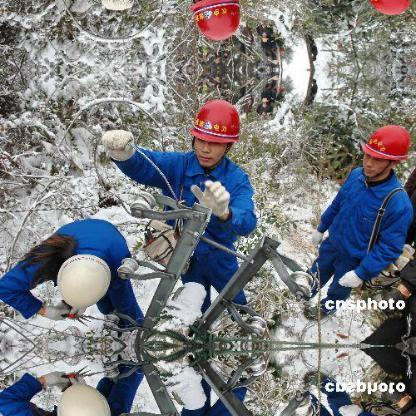helmet: (52, 253, 111, 316), (187, 91, 247, 148), (363, 114, 410, 165)
